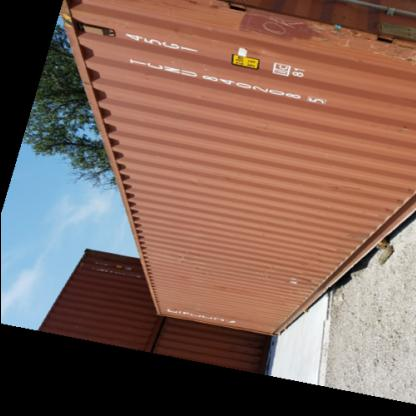Damage: (239, 4, 414, 58), (208, 280, 250, 304), (278, 268, 310, 288), (173, 246, 189, 270)
